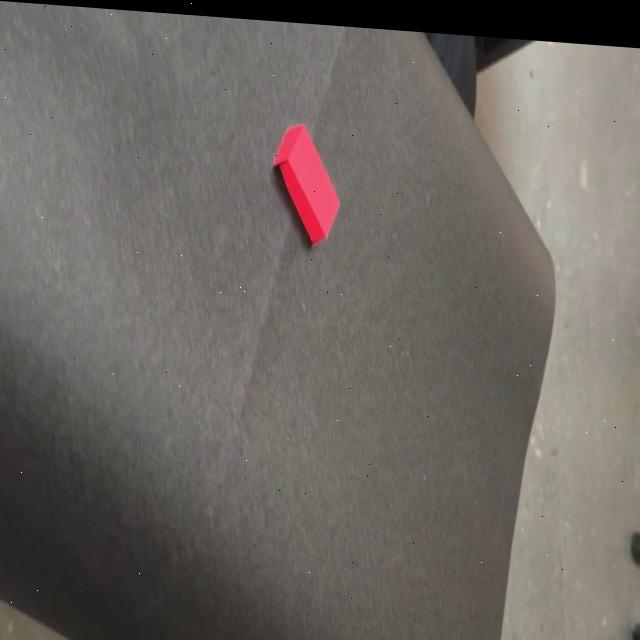red block: (273, 121, 341, 248)
